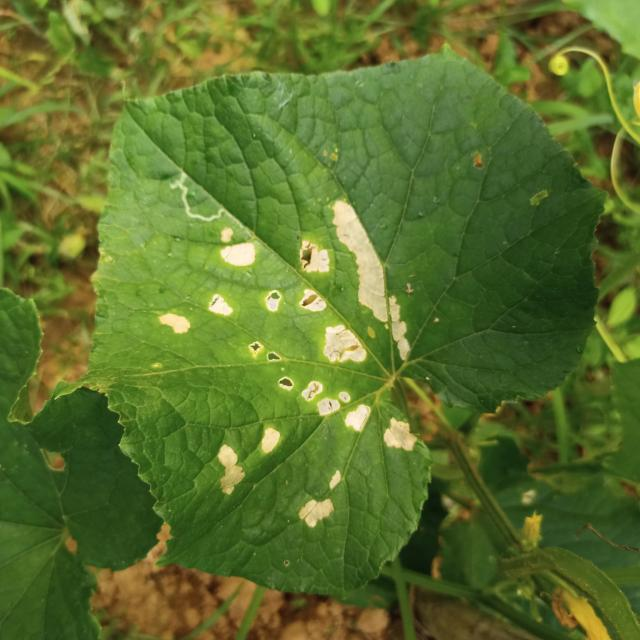disease_cucumber: (158, 201, 420, 457), (218, 428, 282, 493), (296, 470, 342, 530)
